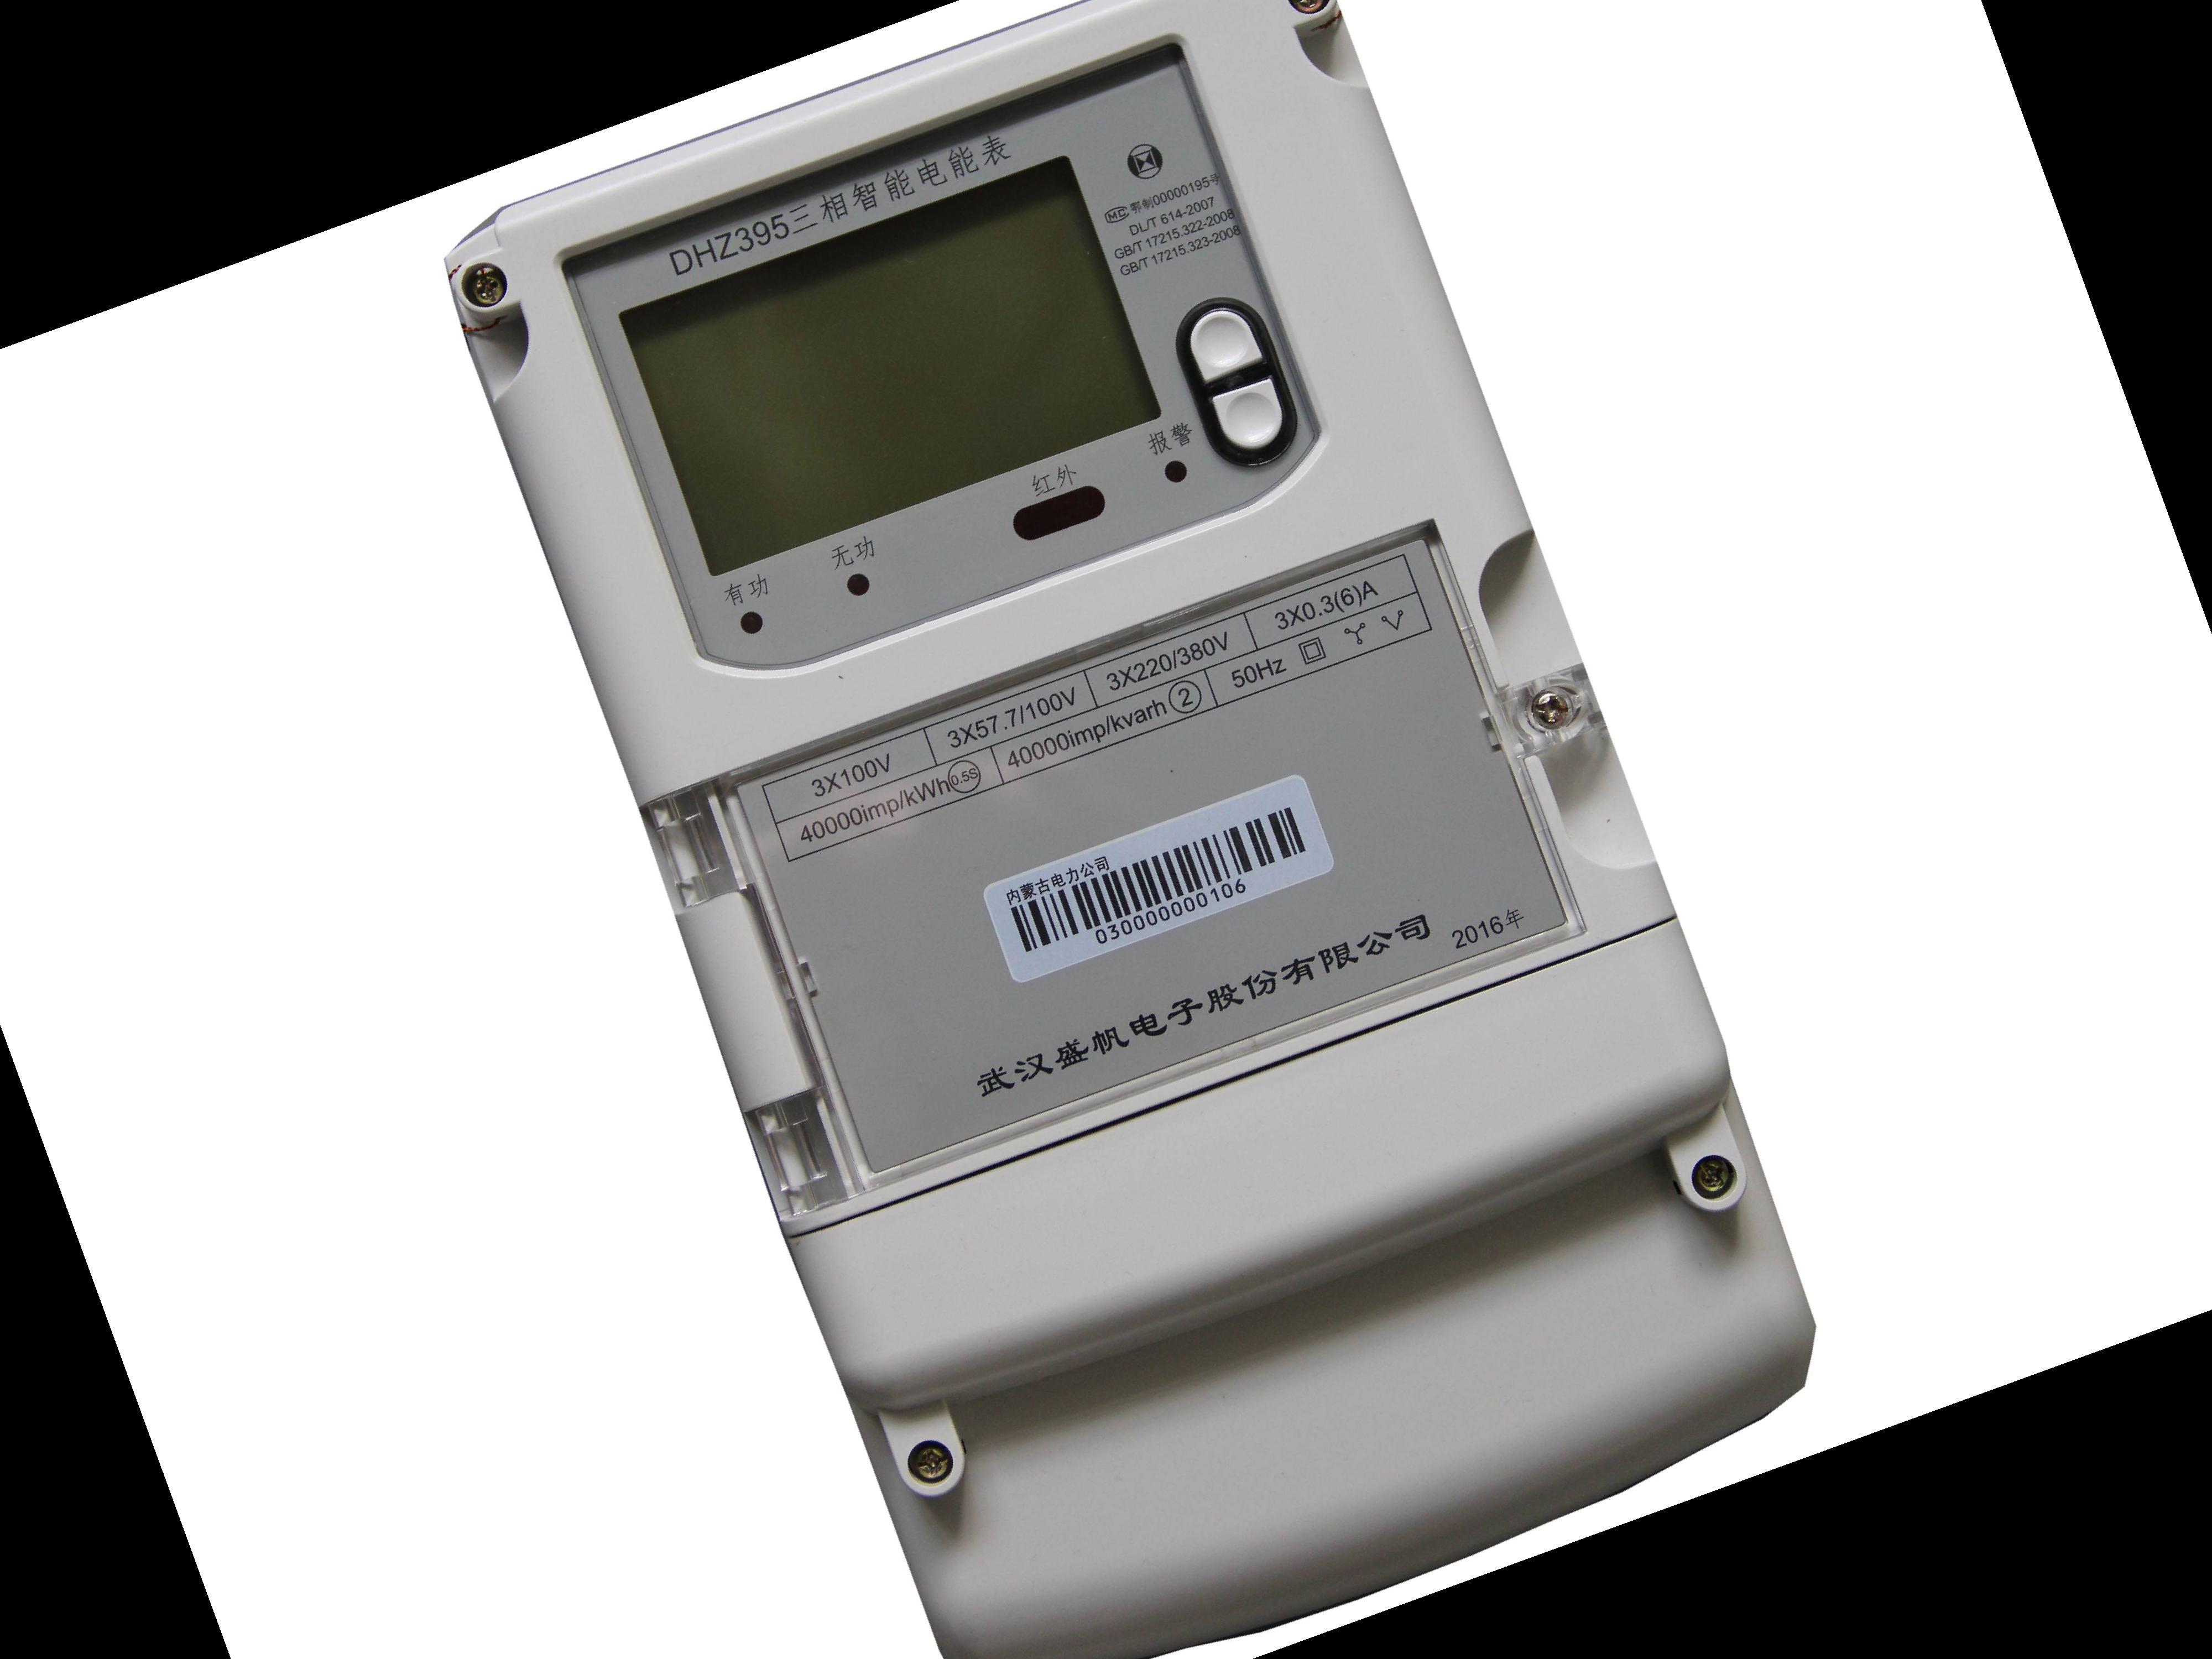digital: (460, 0, 1728, 1391)
